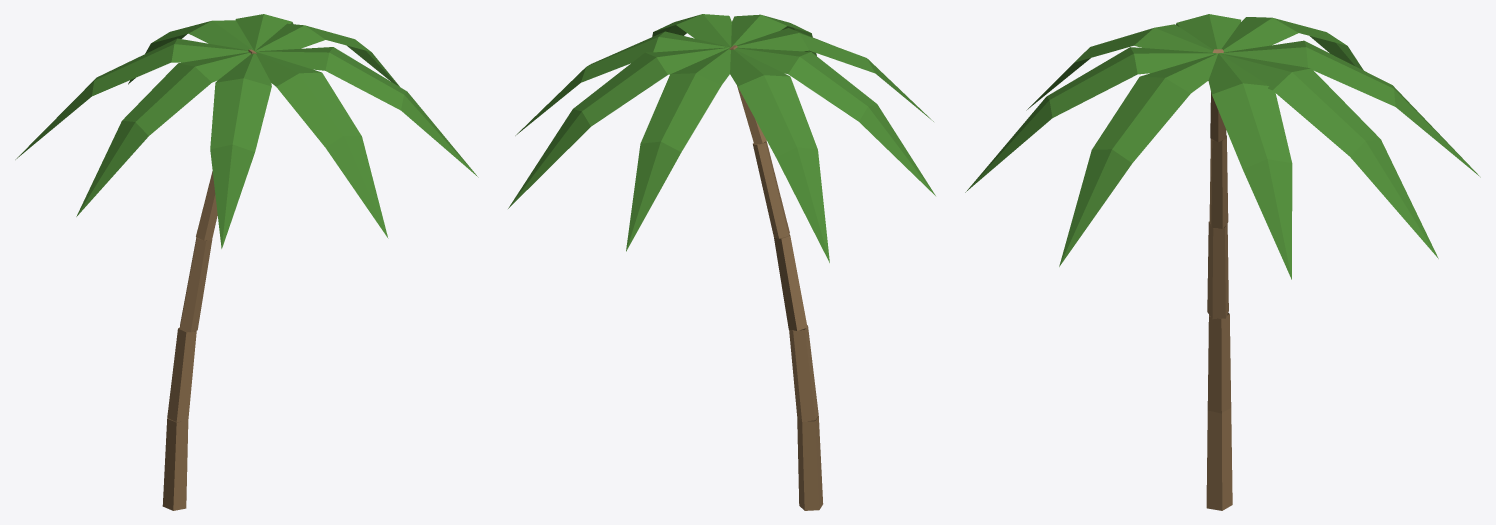
Rendered from palmier.glb.
The picture shows the model from 3 angles, left to right: view 1: azimuth 30°, elevation 25°; view 2: azimuth 150°, elevation 25°; view 3: azimuth 270°, elevation 25°; orthographic projection. The views are drawn at different scales.
Visible parts, largest first — view 1: palmier; view 2: palmier; view 3: palmier.
Boxes of the visible parts, x1,y1,x2,y2 form: palmier: (15, 14, 478, 510); palmier: (508, 14, 935, 510); palmier: (965, 14, 1480, 510).
Bounding box in the file's own units: 10.35 × 11.61 × 10.87.
1 material, 1 textured.
